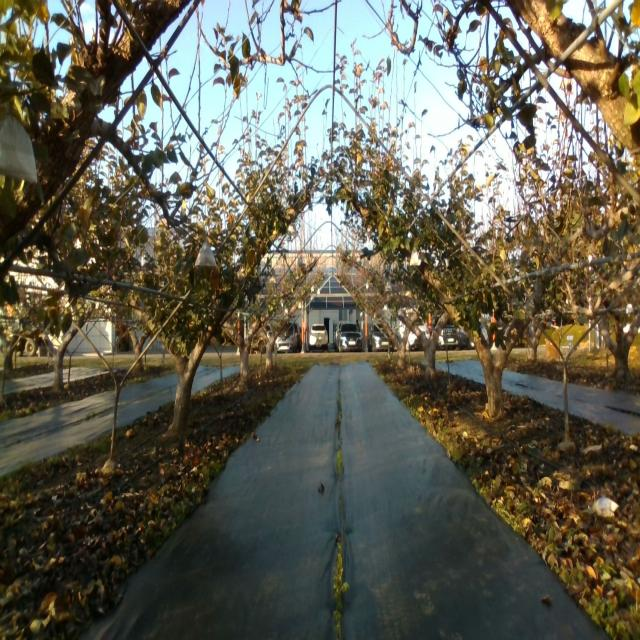pearbags: (0, 112, 38, 184), (194, 242, 217, 267), (409, 248, 422, 267)
